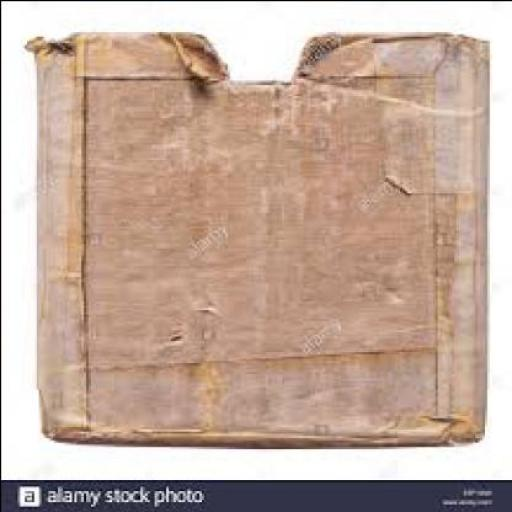cardboard: (19, 24, 486, 446)
